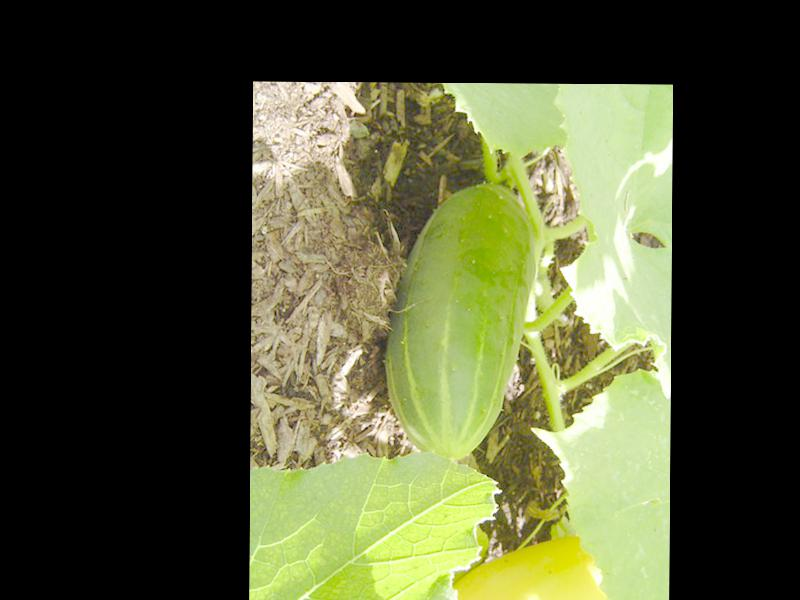Cucumber: (383, 181, 537, 461)
